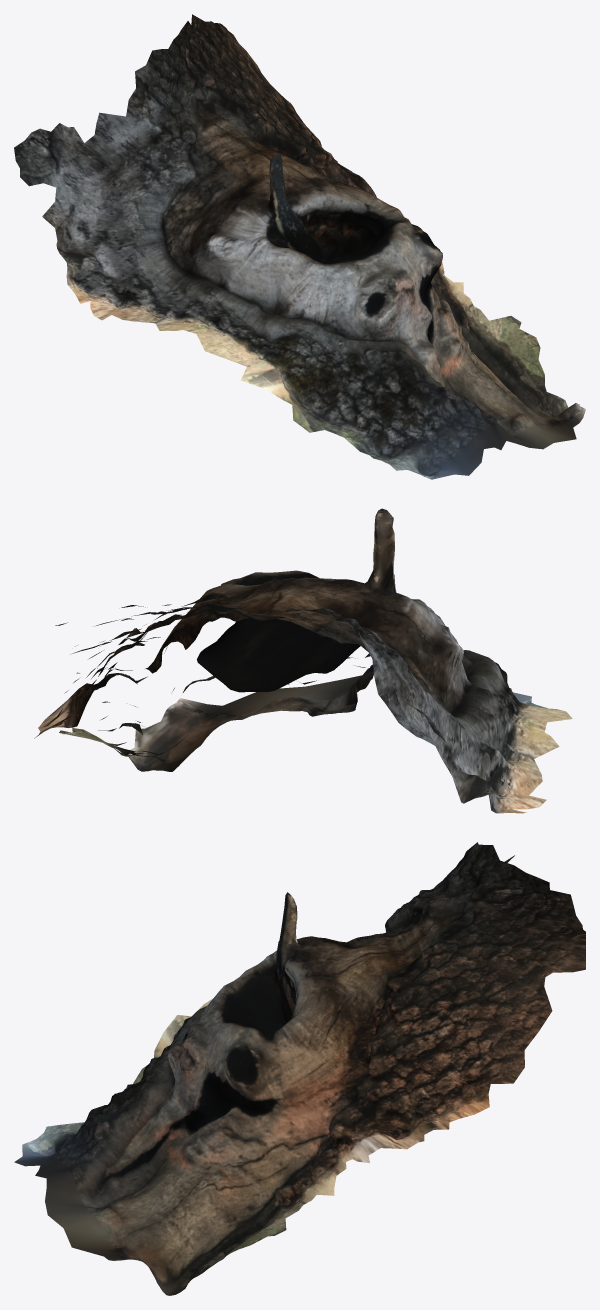
File: model1_prev.glb
3 renders of one model, top to bottom at view 1: azimuth 30°, elevation 25°; view 2: azimuth 150°, elevation 25°; view 3: azimuth 270°, elevation 25°, orthographic. The views are drawn at different scales.
Bounding box in the file's own units: 5.86 × 4.56 × 7.26.
Materials: 1 (1 with a texture image).
